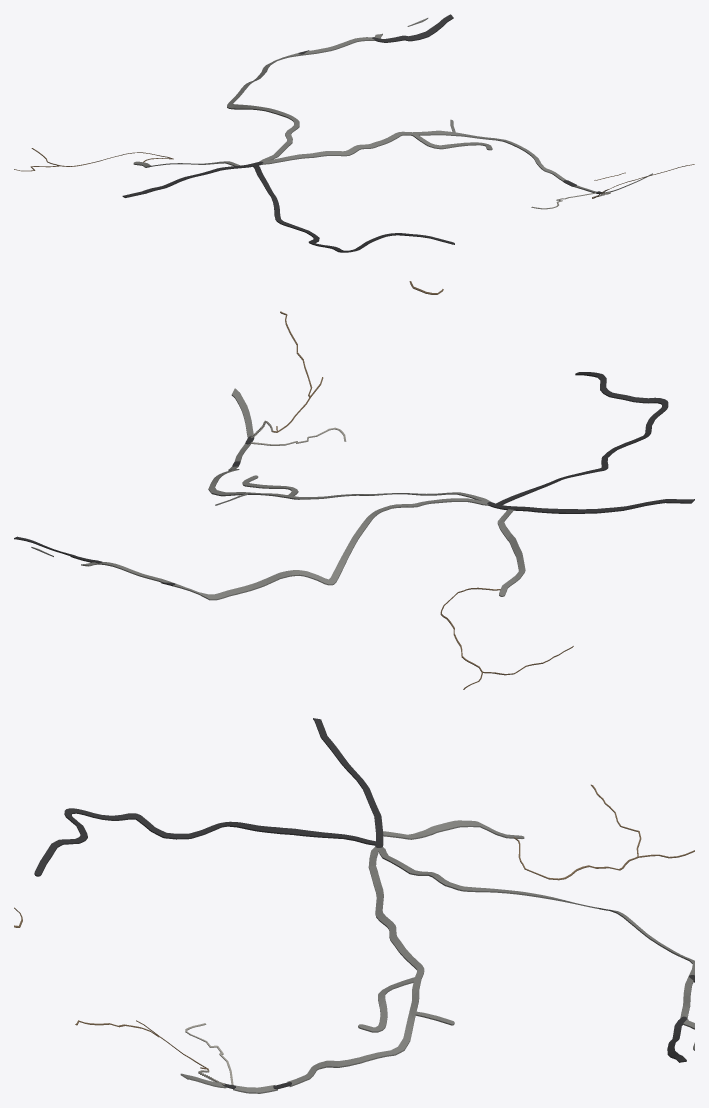
3 views of the same model, one above another, from view 1: azimuth 30°, elevation 25°; view 2: azimuth 150°, elevation 25°; view 3: azimuth 270°, elevation 25° (orthographic). The views are drawn at different scales.
Bounding box in the file's own units: 587 × 124 × 583.
